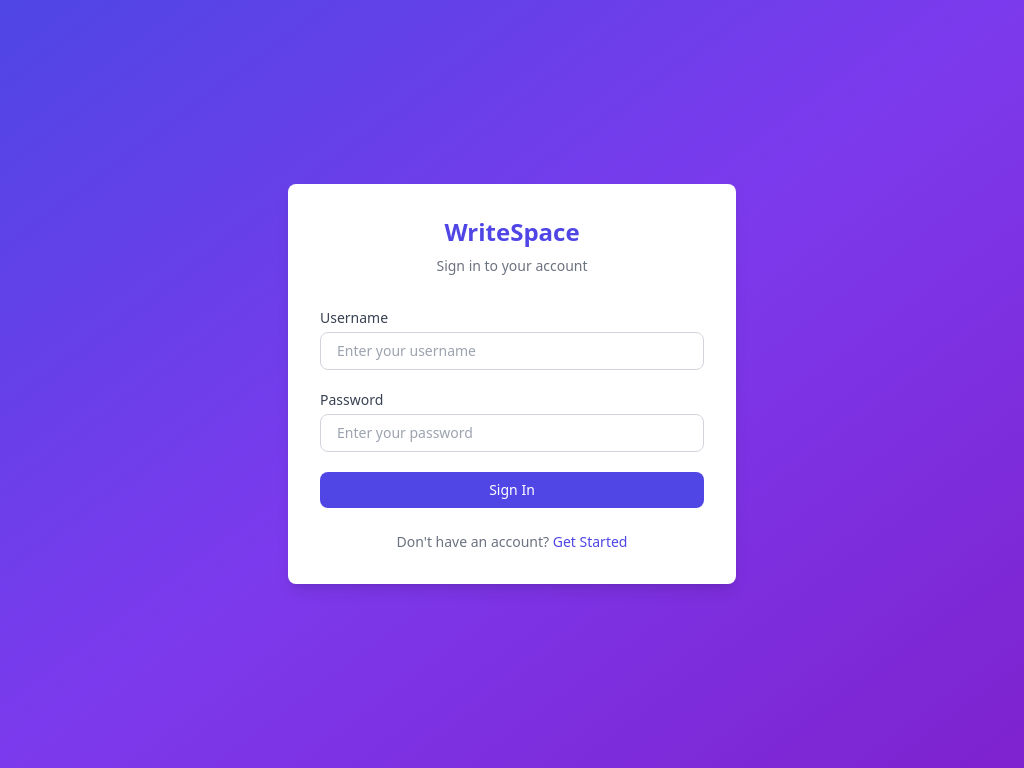
Test: LoginPage › validation › displays error when submitting with empty fields
This screenshot has width=1024, height=768.
Click the button "Sign In" at (512, 490), box [320,472,704,508]
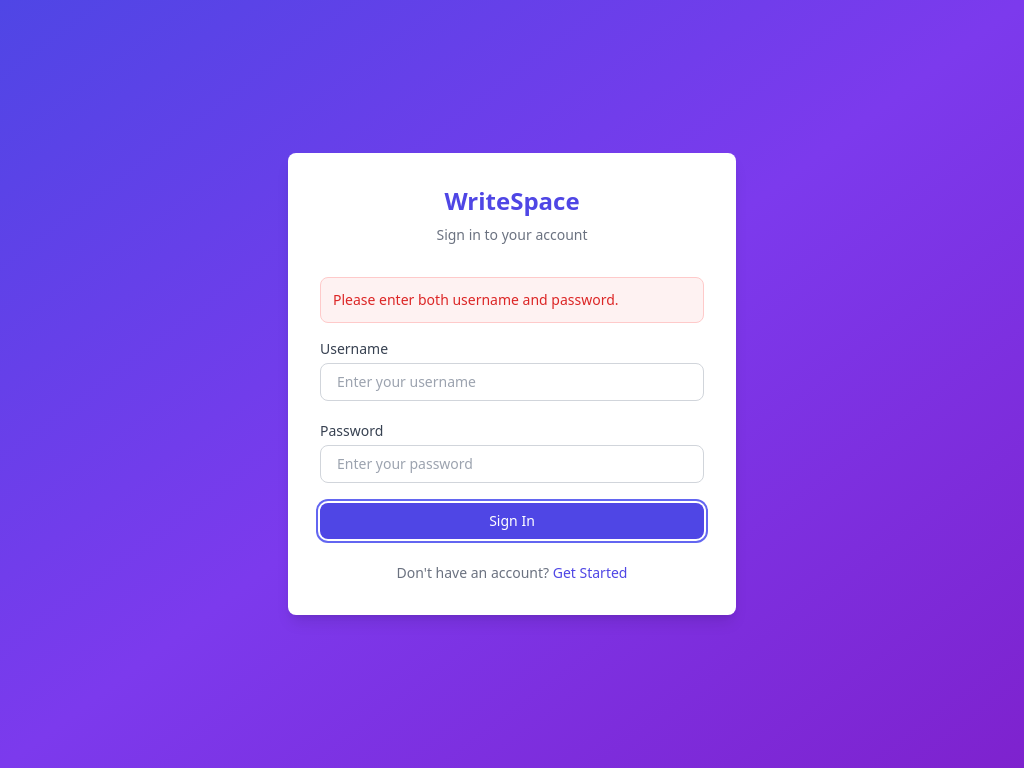
Result: the text "Please enter both username and password." is shown at [320,277,704,323]
